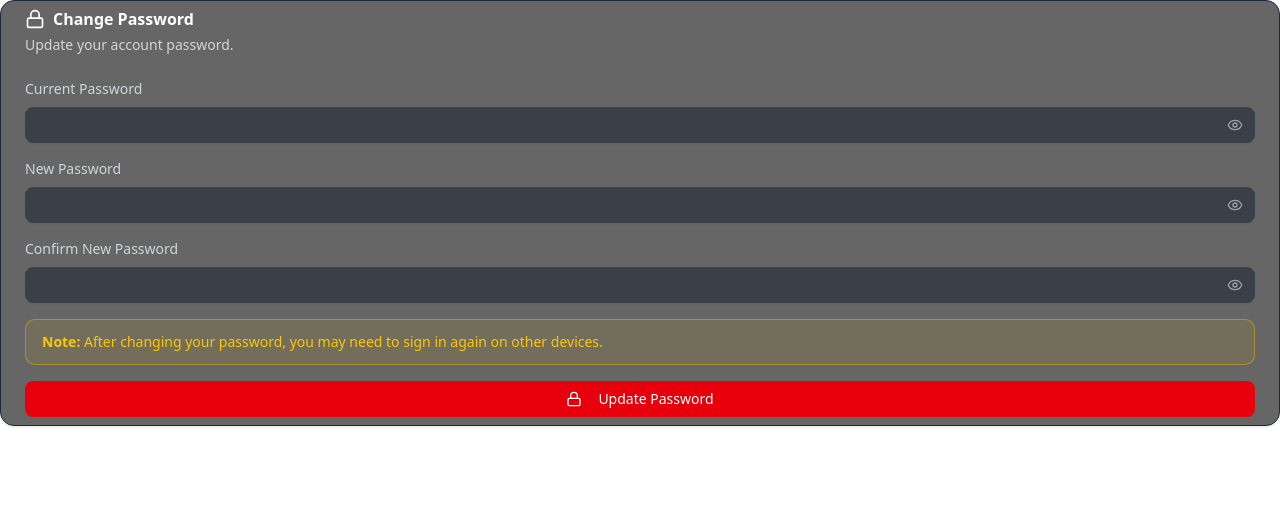
ChangePasswordForm › should show error when current password is incorrect
This screenshot has width=1280, height=506.
Type "wrongpass" into the password field labelled "Current Password".
click(640, 125); type("wrongpass")  # box left=25, top=107, right=1255, bottom=143
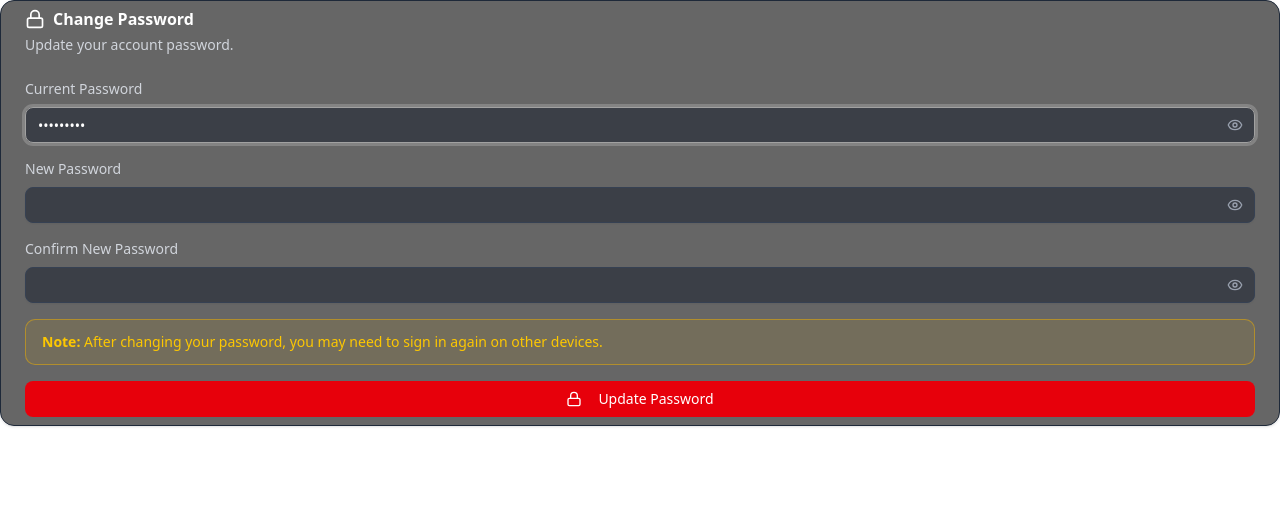
Type "newpass123" into the password field labelled "New Password".
click(640, 205); type("newpass123")  # box left=25, top=187, right=1255, bottom=223
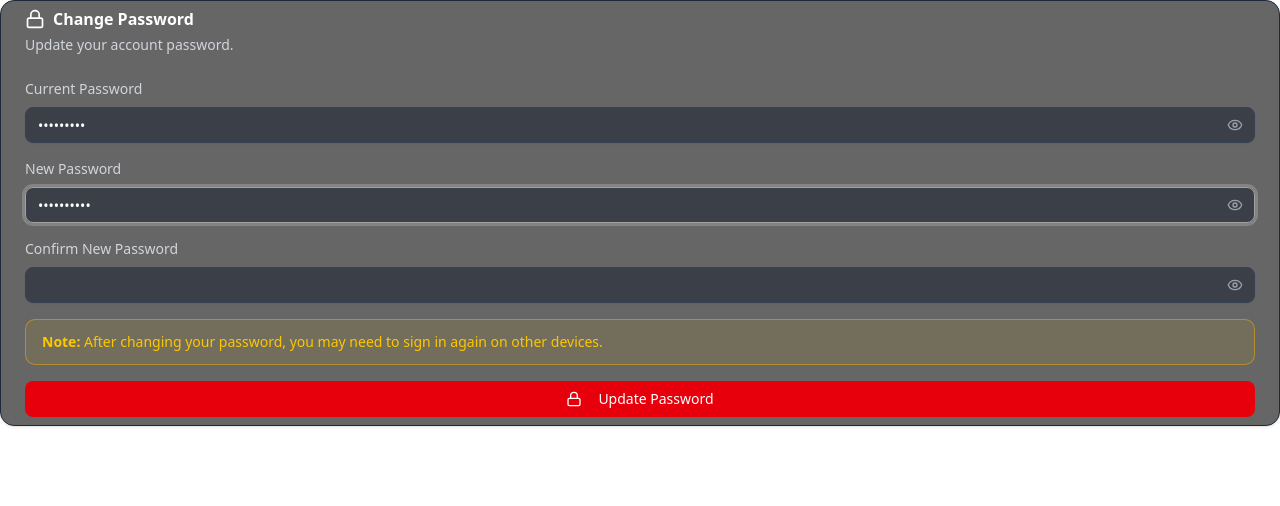
Type "newpass123" into the password field labelled "Confirm New Password".
click(640, 285); type("newpass123")  # box left=25, top=267, right=1255, bottom=303
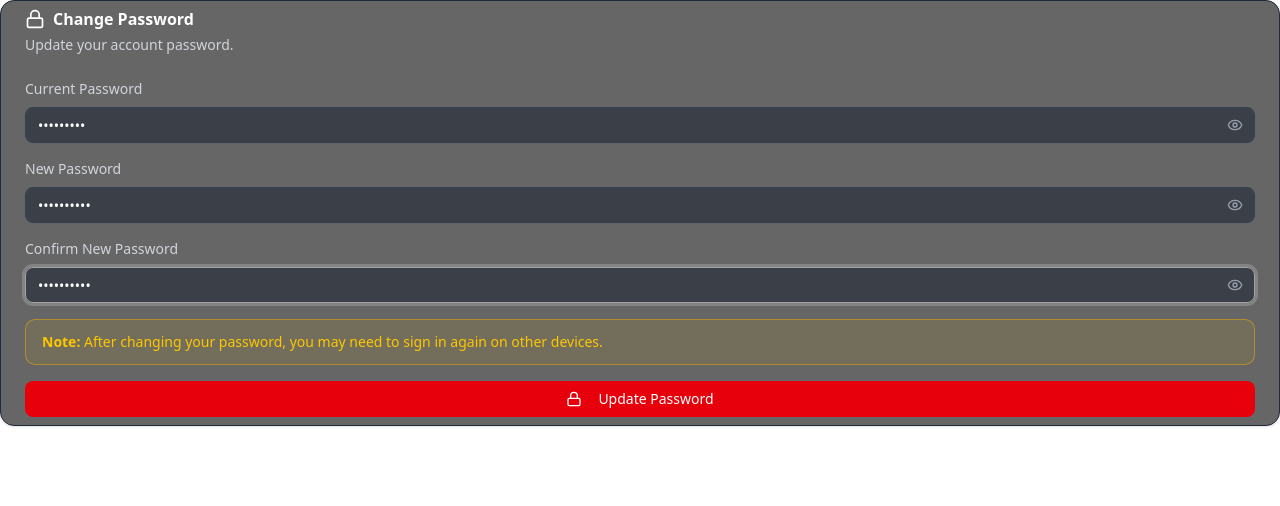
Click the button "Update Password".
click(640, 399)  # box left=25, top=381, right=1255, bottom=417
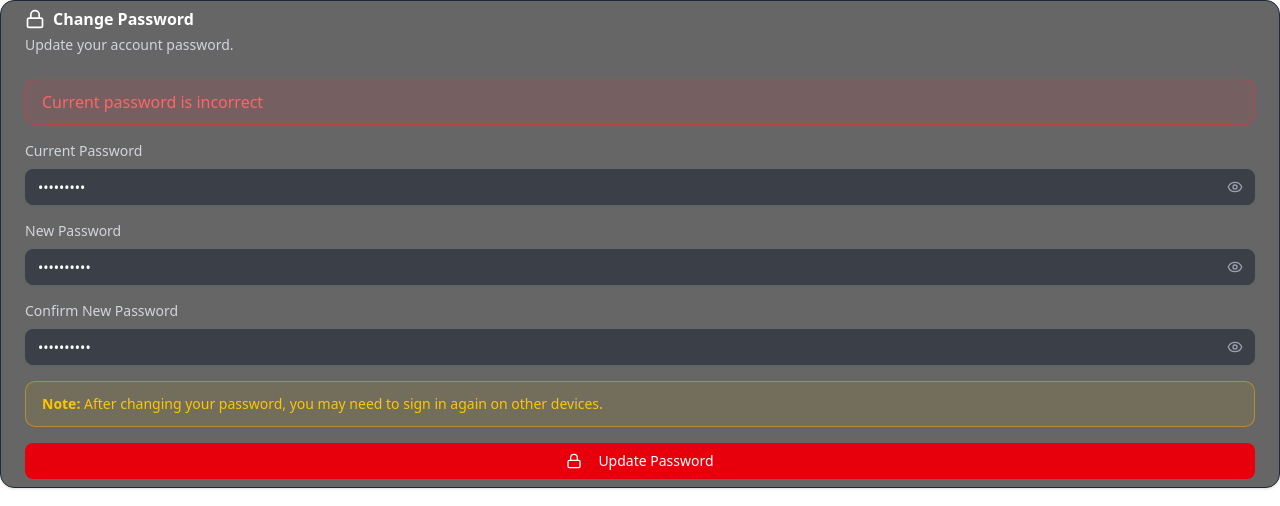
Result: the text "Current password is incorrect" is shown at left=25, top=79, right=1255, bottom=125
